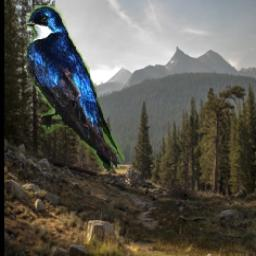Swallow: (25, 6, 124, 172)
